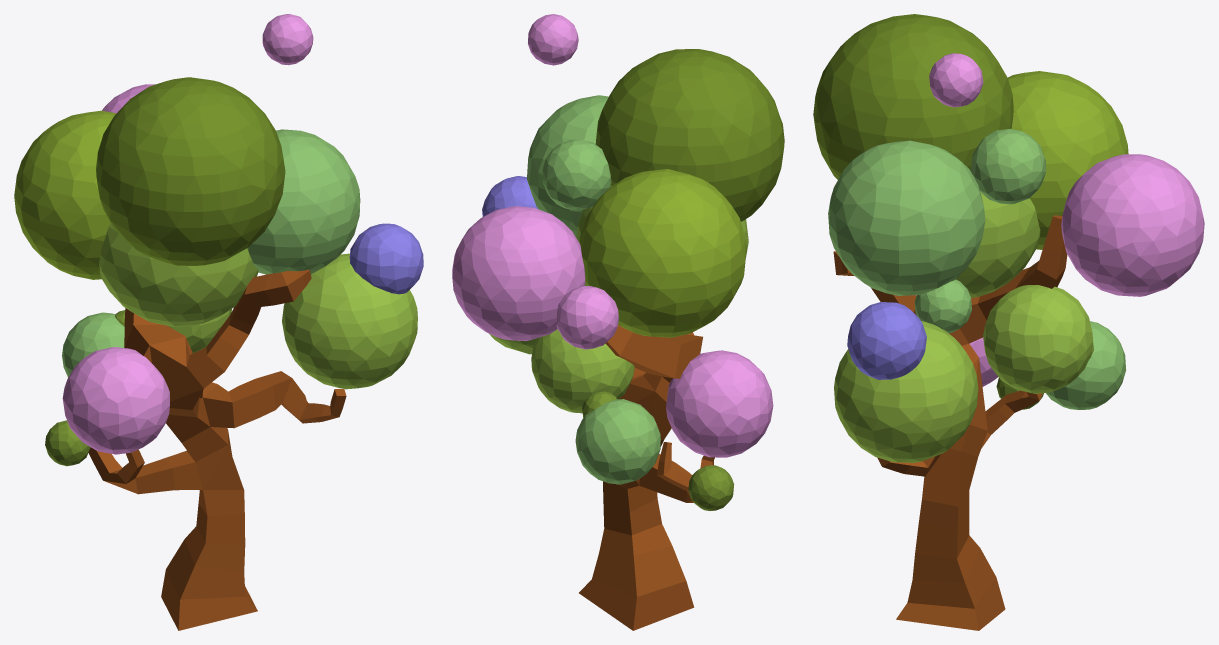
Rendered from tree no 4.fbx.
3 renders of one model, left to right at view 1: azimuth 30°, elevation 25°; view 2: azimuth 150°, elevation 25°; view 3: azimuth 270°, elevation 25°, orthographic. The views are drawn at different scales.
Parts seen in each view (by area): view 1: Sphere.084, Cube.004; view 2: Sphere.084, Cube.004; view 3: Sphere.084, Cube.004.
Part boxes in pixels (x1=…): Sphere.084: x1=14, y1=14, x2=423, y2=466; Cube.004: x1=88, y1=269, x2=346, y2=630; Sphere.084: x1=452, y1=14, x2=784, y2=510; Cube.004: x1=579, y1=324, x2=714, y2=630; Sphere.084: x1=813, y1=14, x2=1204, y2=462; Cube.004: x1=833, y1=215, x2=1067, y2=630.
Size of the model in its own units: 373 by 637 by 372.
